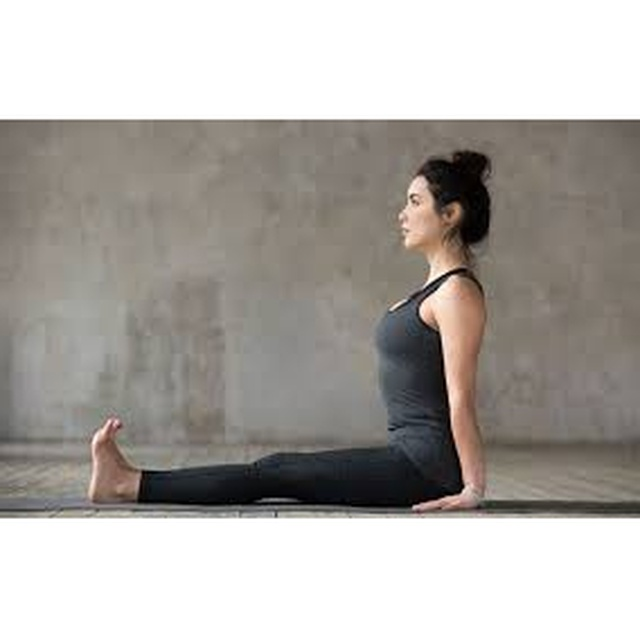Staff_Pose: (84, 147, 492, 513)
